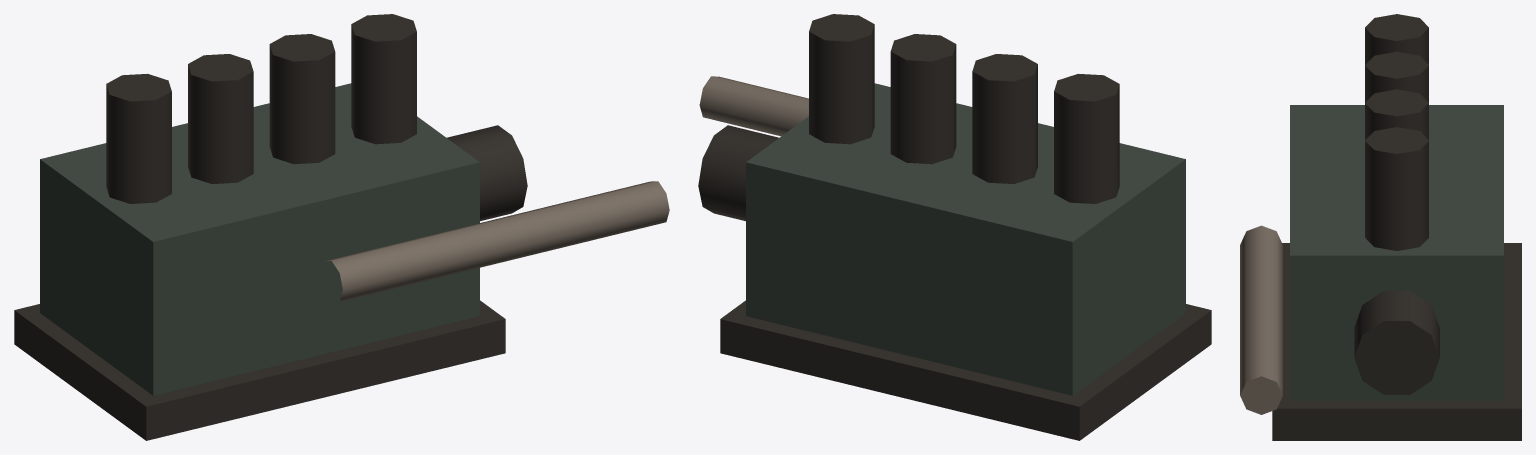
Rendered from work_engine_block.glb.
3 views of the same model, side by side, from view 1: azimuth 30°, elevation 25°; view 2: azimuth 150°, elevation 25°; view 3: azimuth 270°, elevation 25° (orthographic). The views are drawn at different scales.
Visible parts, largest first — view 1: sw5e_int_work_engine_block; view 2: sw5e_int_work_engine_block; view 3: sw5e_int_work_engine_block.
Boxes of the visible parts, x1,y1,x2,y2 form: sw5e_int_work_engine_block: (14,14,669,440); sw5e_int_work_engine_block: (698,14,1211,440); sw5e_int_work_engine_block: (1240,14,1521,440).
Size of the model in its own units: 1.55 by 0.85 by 0.79.
